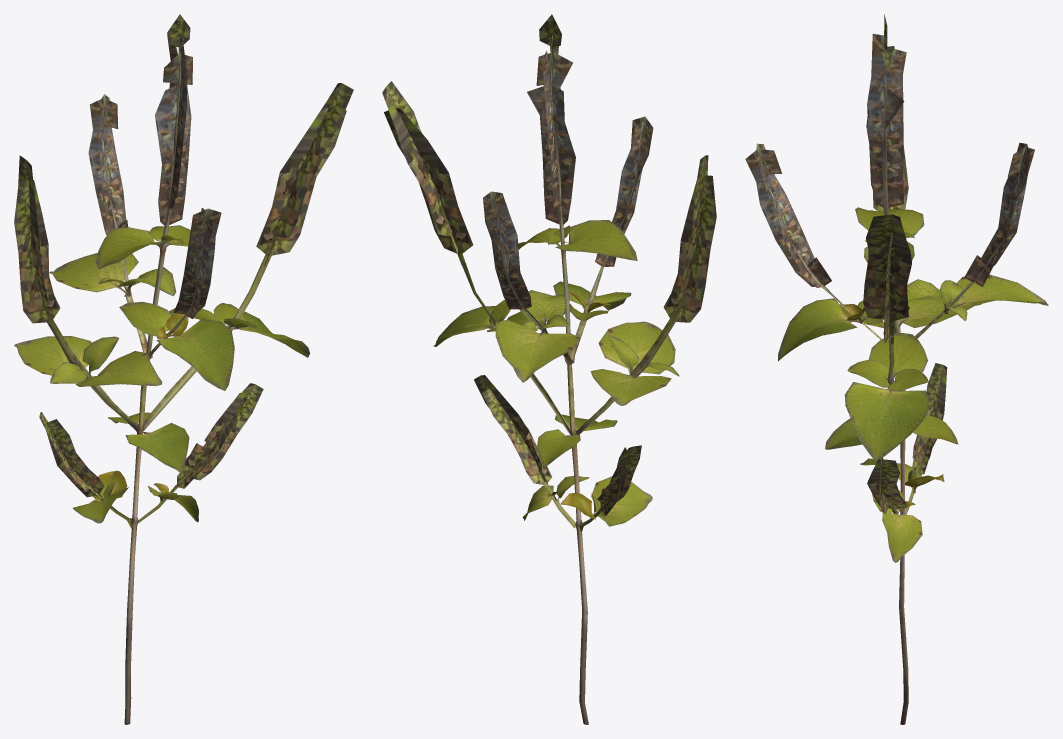
The model's file is shrub-03-a-512.glb.
3 views of the same model, side by side, from view 1: azimuth 30°, elevation 25°; view 2: azimuth 150°, elevation 25°; view 3: azimuth 270°, elevation 25° (orthographic). The views are drawn at different scales.
Visible parts, largest first — view 1: shrub_03_a; view 2: shrub_03_a; view 3: shrub_03_a.
Boxes of the visible parts, x1,y1,x2,y2 form: shrub_03_a: [14, 14, 353, 724]; shrub_03_a: [382, 14, 716, 724]; shrub_03_a: [745, 14, 1048, 724].
Bounding box in the file's own units: 0.2006 × 0.4028 × 0.1512.
1 material, 1 textured.
